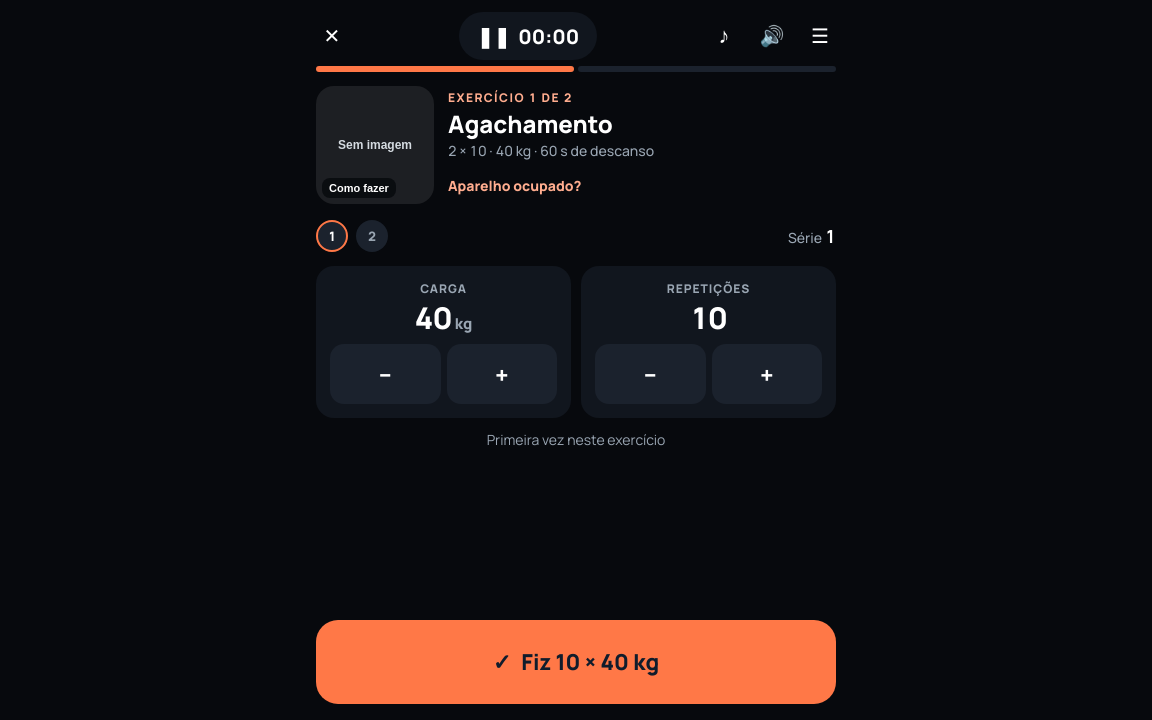
Test: LiveWorkout (FIT-153) › lista do treino troca a ordem e o exercício por tempo tem cronômetro
Click the button named "Ver treino completo": (820, 36) 796,12 -> 844,60
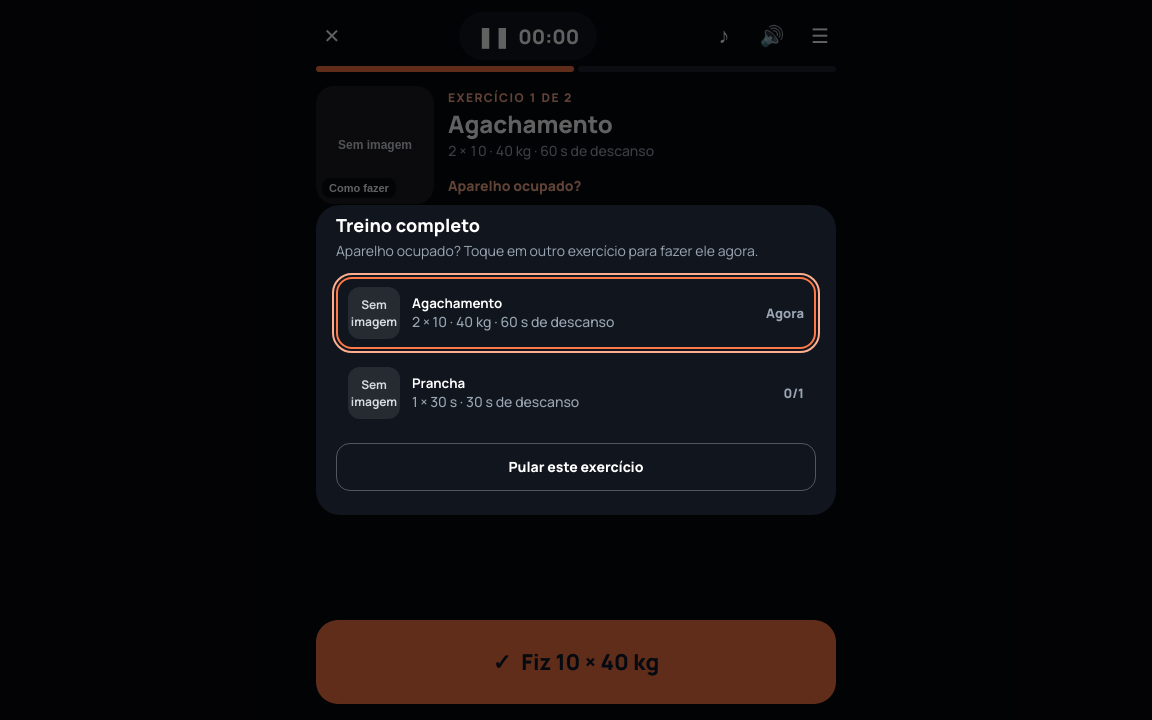
Click the button "Sem imagem Prancha 1 × 30 s · 30 s de descanso 0/1": (576, 393) 336,357 -> 816,429
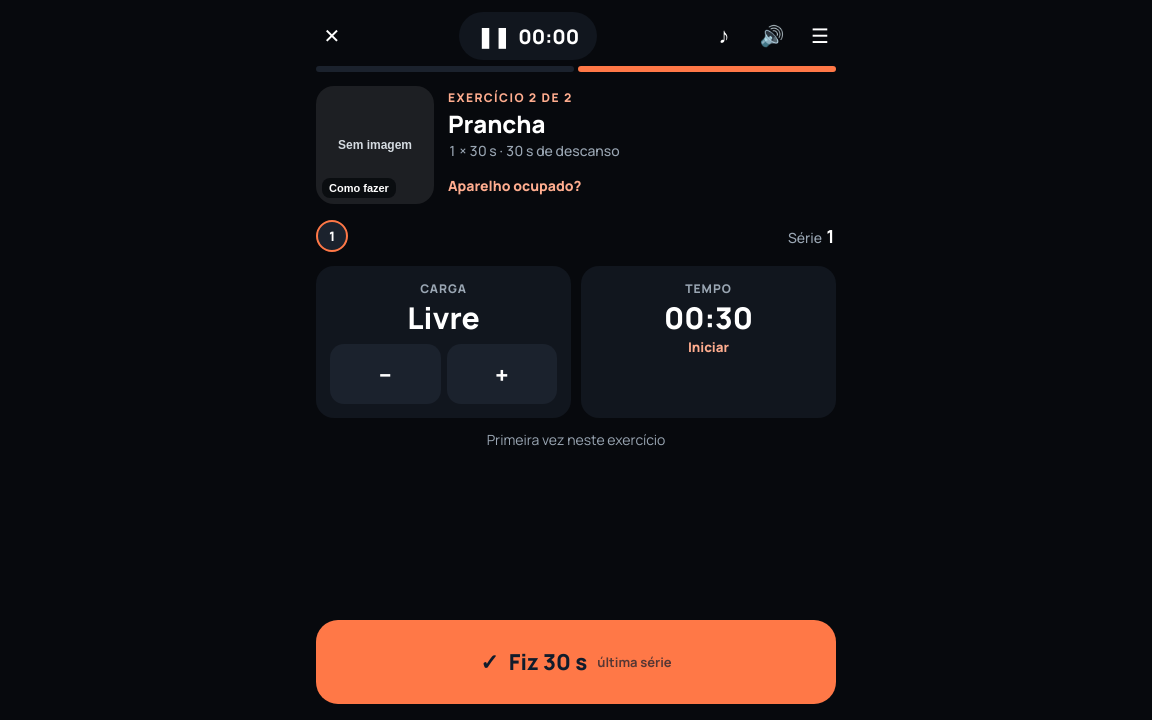
Expected: the heading "Prancha" is shown, 448,107 -> 546,140
Expected: the text "00:30" is shown, 664,301 -> 753,334
Expected: the button with aria-label "Iniciar cronômetro do exercício" is shown, 581,266 -> 836,418
